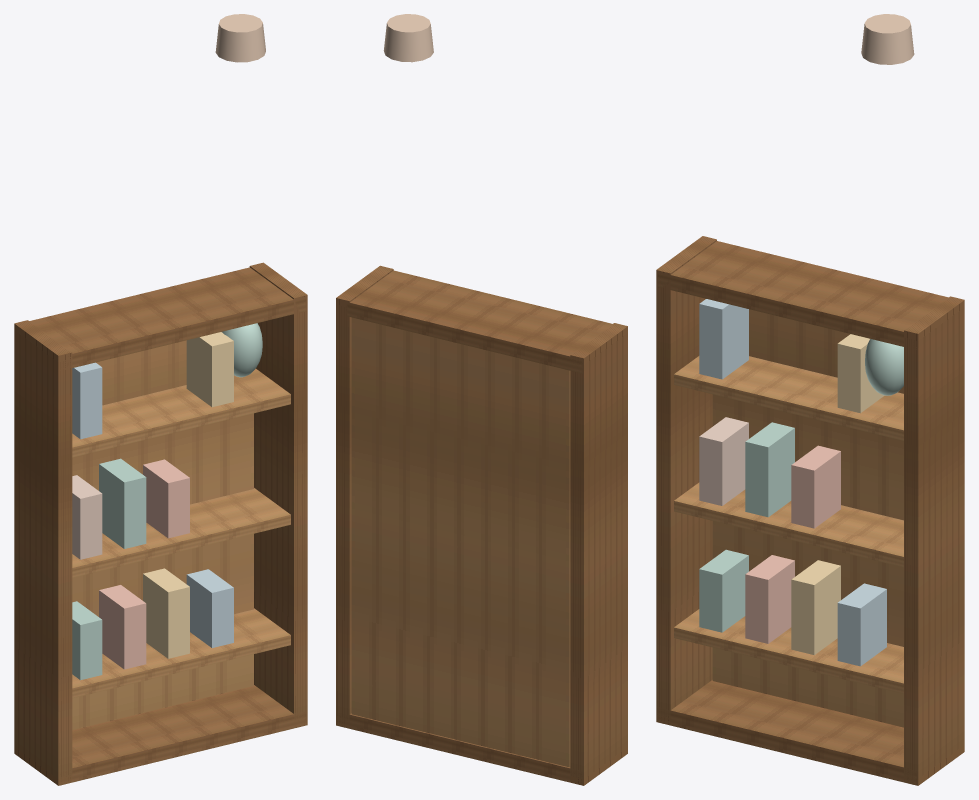
Rendered from fl_shelf.glb.
3 renders of one model, left to right at view 1: azimuth 30°, elevation 25°; view 2: azimuth 150°, elevation 25°; view 3: azimuth 330°, elevation 25°, orthographic. The views are drawn at different scales.
Visible parts, largest first — view 1: fl_shelf; view 2: fl_shelf; view 3: fl_shelf.
Boxes of the visible parts, x1,y1,x2,y2 form: fl_shelf: (14,14,307,785); fl_shelf: (336,14,627,785); fl_shelf: (656,14,964,785).
Size of the model in its own units: 0.91 by 2.44 by 0.28.
Materials: 9 (2 with a texture image).
